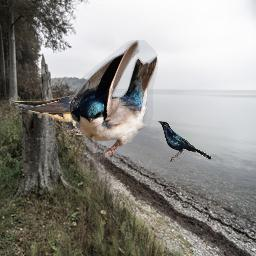Crow: (158, 121, 212, 162)
Swallow: (69, 40, 158, 160), (15, 78, 116, 135)
